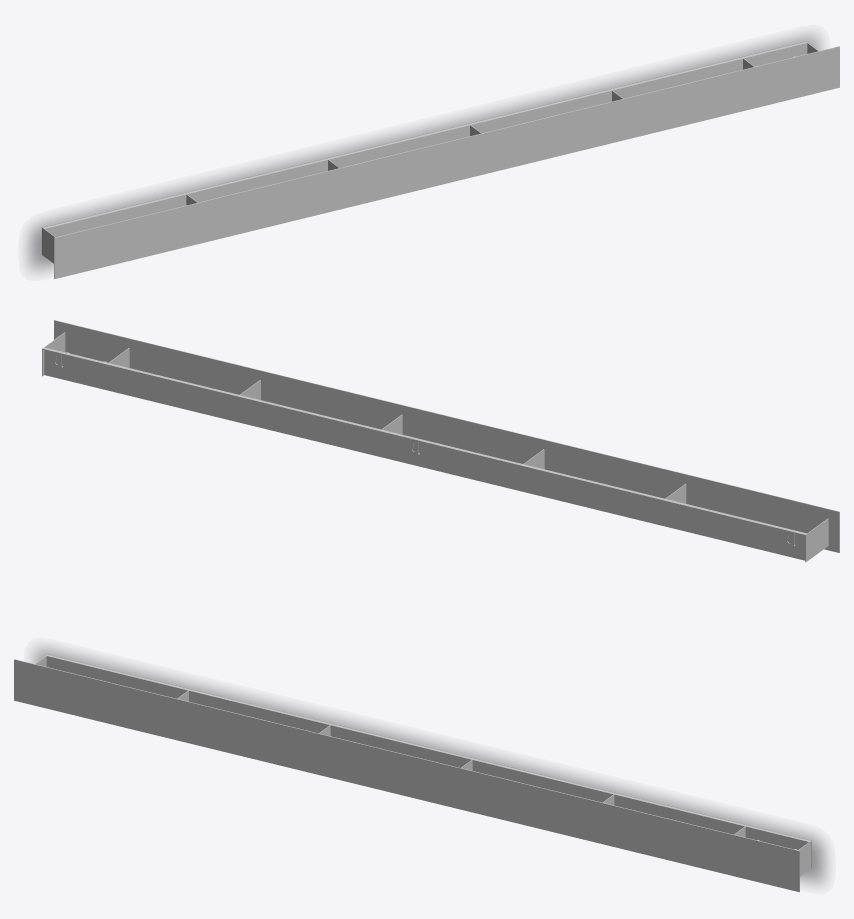
The model's file is skyline-patron.fb6174ba5b.ar.glb.
3 renders of one model, top to bottom at view 1: azimuth 30°, elevation 25°; view 2: azimuth 150°, elevation 25°; view 3: azimuth 330°, elevation 25°, orthographic.
Parts seen in each view (by area): view 1: NAUO1, object 2; view 2: NAUO1; view 3: NAUO1, object 2.
Boxes of the visible parts, <box> form: NAUO1: <box>42,41,839,278</box>; object 2: <box>26,34,821,271</box>; NAUO1: <box>42,320,839,562</box>; NAUO1: <box>14,654,811,891</box>; object 2: <box>32,647,827,884</box>.
Bounding box in the file's own units: 1.88 × 0.17 × 0.092.
Materials: 2 (1 with a texture image).
